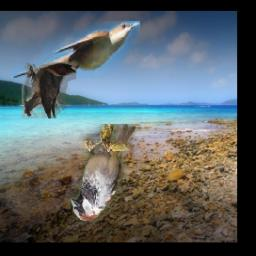Cuckoo: (12, 21, 141, 79)
Sparrow: (70, 125, 136, 222)
Swallow: (22, 62, 76, 119)
